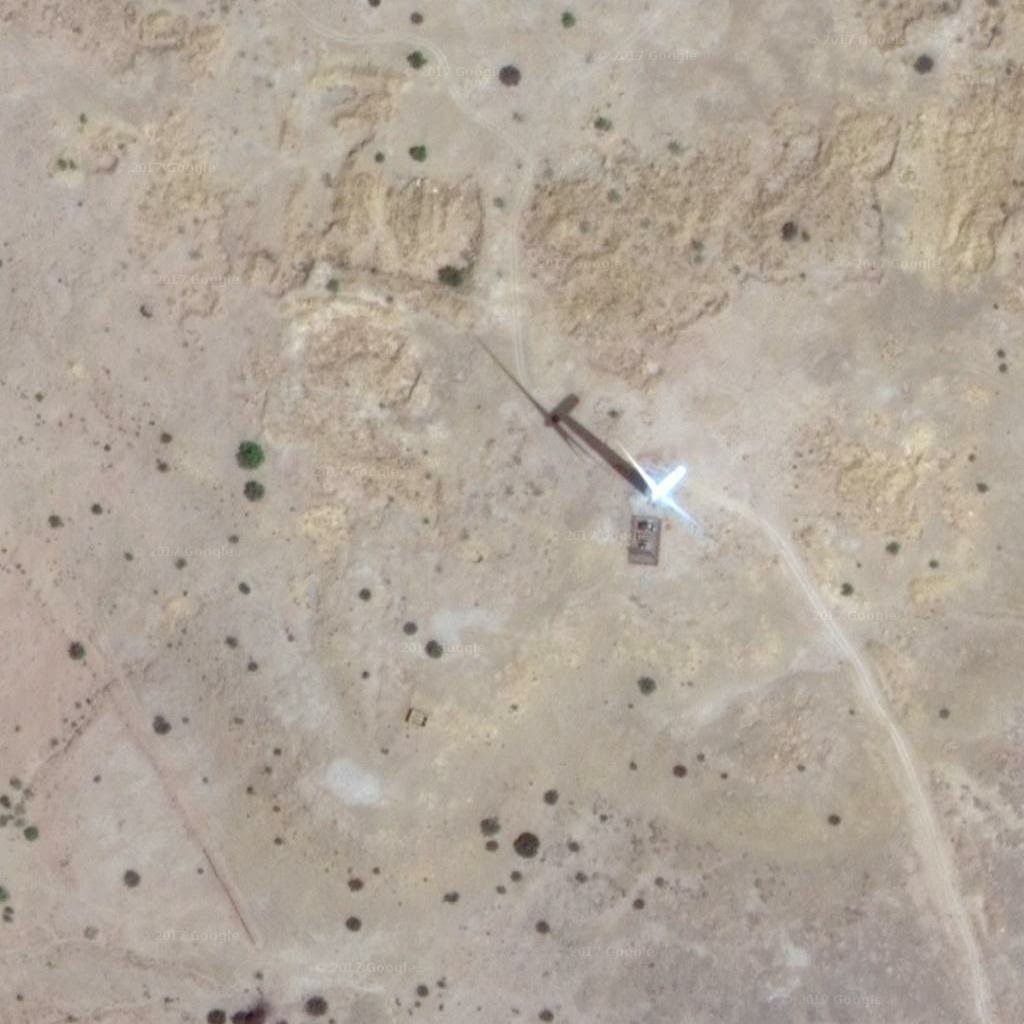Windmill: (470, 334, 653, 487)
